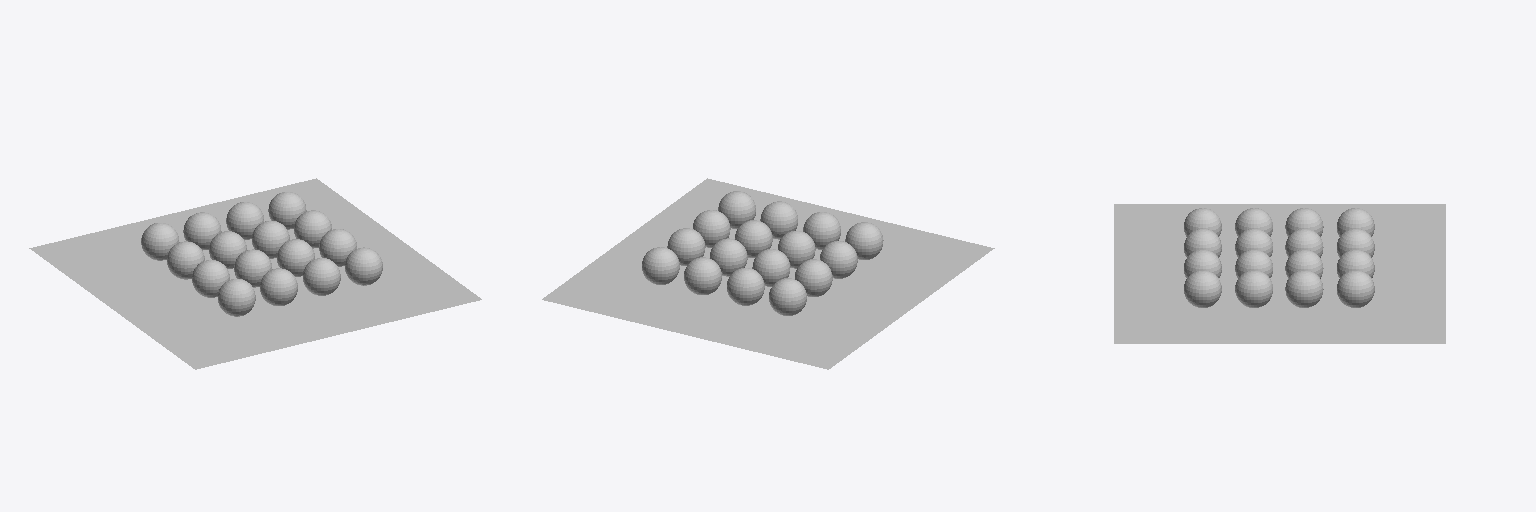
File: Spheres.obj
3 views of the same model, side by side, from view 1: azimuth 30°, elevation 25°; view 2: azimuth 150°, elevation 25°; view 3: azimuth 270°, elevation 25° (orthographic).
Visible parts, largest first — view 1: Sphere.002_Sphere.017, Sphere.006_Sphere.021, Sphere.007_Sphere.022, Sphere.005_Sphere.020, Sphere.008_Sphere.023, Sphere.009_Sphere.024, Sphere.012_Sphere.027, Sphere.013_Sphere.028, Sphere, Sphere.010_Sphere.025, Sphere.004_Sphere.019, Sphere.003_Sphere.018 (+5 smaller); view 2: Sphere.002_Sphere.017, Sphere, Sphere.001_Sphere.016, Sphere.012_Sphere.027, Sphere.011_Sphere.026, Sphere.013_Sphere.028, Sphere.008_Sphere.023, Sphere.009_Sphere.024, Sphere.016_Sphere.031, Sphere.006_Sphere.021, Sphere.005_Sphere.020, Sphere.014_Sphere.029 (+5 smaller); view 3: Sphere.002_Sphere.017, Sphere.003_Sphere.018, Sphere.001_Sphere.016, Sphere.015_Sphere.030, Sphere.006_Sphere.021, Sphere.010_Sphere.025, Sphere.007_Sphere.022, Sphere.011_Sphere.026, Sphere.014_Sphere.029, Sphere.005_Sphere.020, Sphere.013_Sphere.028, Sphere.009_Sphere.024 (+5 smaller).
Part boxes in pixels (bbox=[...]): Sphere.002_Sphere.017: bbox=[29, 178, 481, 369]; Sphere.006_Sphere.021: bbox=[345, 247, 382, 285]; Sphere.007_Sphere.022: bbox=[260, 268, 297, 305]; Sphere.005_Sphere.020: bbox=[303, 258, 340, 295]; Sphere.008_Sphere.023: bbox=[218, 279, 255, 316]; Sphere.009_Sphere.024: bbox=[192, 260, 229, 297]; Sphere.012_Sphere.027: bbox=[141, 223, 178, 260]; Sphere.013_Sphere.028: bbox=[167, 241, 204, 279]; Sphere: bbox=[226, 202, 263, 239]; Sphere.010_Sphere.025: bbox=[234, 249, 271, 287]; Sphere.004_Sphere.019: bbox=[277, 239, 314, 276]; Sphere.003_Sphere.018: bbox=[319, 229, 356, 266]; Sphere.002_Sphere.017: bbox=[542, 178, 994, 369]; Sphere: bbox=[684, 257, 721, 294]; Sphere.001_Sphere.016: bbox=[642, 247, 679, 284]; Sphere.012_Sphere.027: bbox=[769, 278, 806, 315]; Sphere.011_Sphere.026: bbox=[727, 268, 764, 305]; Sphere.013_Sphere.028: bbox=[795, 259, 832, 296]; Sphere.008_Sphere.023: bbox=[845, 222, 883, 259]; Sphere.009_Sphere.024: bbox=[820, 241, 857, 278]; Sphere.016_Sphere.031: bbox=[710, 238, 747, 276]; Sphere.006_Sphere.021: bbox=[718, 191, 755, 228]; Sphere.005_Sphere.020: bbox=[760, 201, 797, 239]; Sphere.014_Sphere.029: bbox=[752, 249, 790, 286]; Sphere.002_Sphere.017: bbox=[1114, 204, 1445, 343]; Sphere.003_Sphere.018: bbox=[1235, 270, 1272, 307]; Sphere.001_Sphere.016: bbox=[1337, 270, 1374, 307]; Sphere.015_Sphere.030: bbox=[1285, 270, 1323, 307]; Sphere.006_Sphere.021: bbox=[1184, 270, 1221, 307]; Sphere.010_Sphere.025: bbox=[1235, 229, 1272, 257]; Sphere.007_Sphere.022: bbox=[1184, 229, 1221, 257]; Sphere.011_Sphere.026: bbox=[1337, 229, 1374, 257]; Sphere.014_Sphere.029: bbox=[1285, 229, 1323, 257]; Sphere.005_Sphere.020: bbox=[1184, 249, 1221, 277]; Sphere.013_Sphere.028: bbox=[1285, 208, 1323, 236]; Sphere.009_Sphere.024: bbox=[1235, 208, 1272, 236].
Bounding box in the file's own units: 17.33 × 2.08 × 17.33.